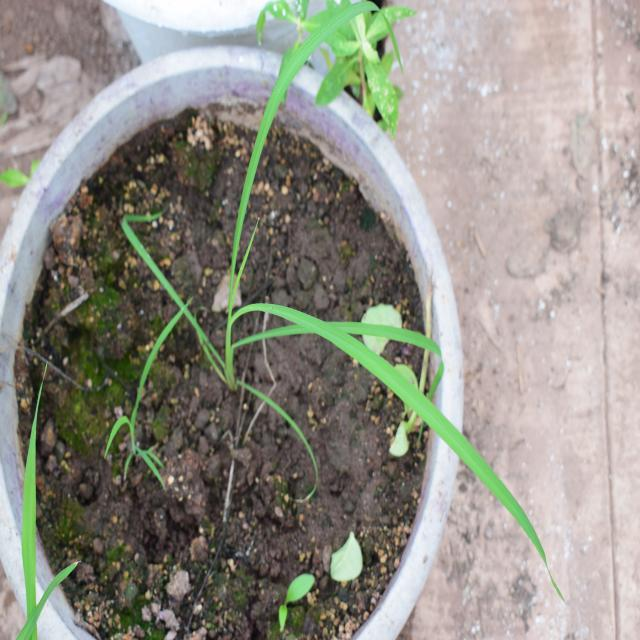barnyard_grass: (154, 62, 547, 569)
